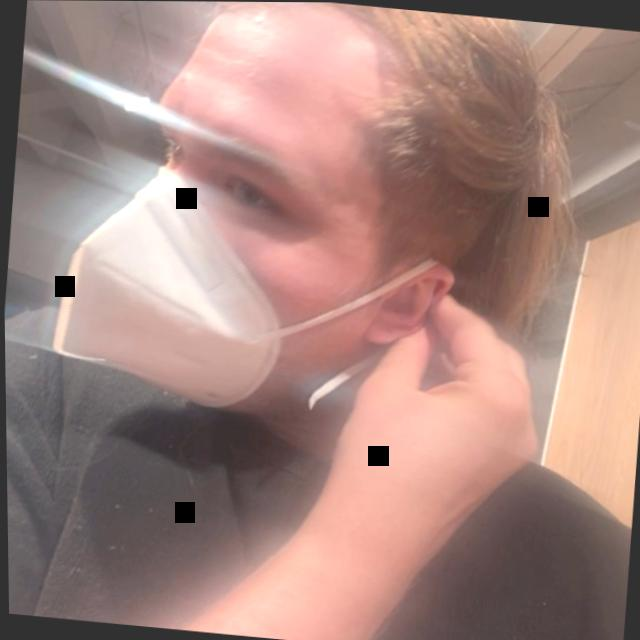Mask: (0, 0, 549, 423)
